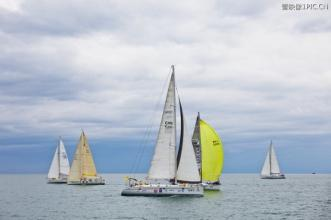fanchuan: (120, 63, 196, 197), (191, 112, 222, 191), (67, 129, 108, 185), (43, 135, 72, 184), (257, 139, 290, 178)
